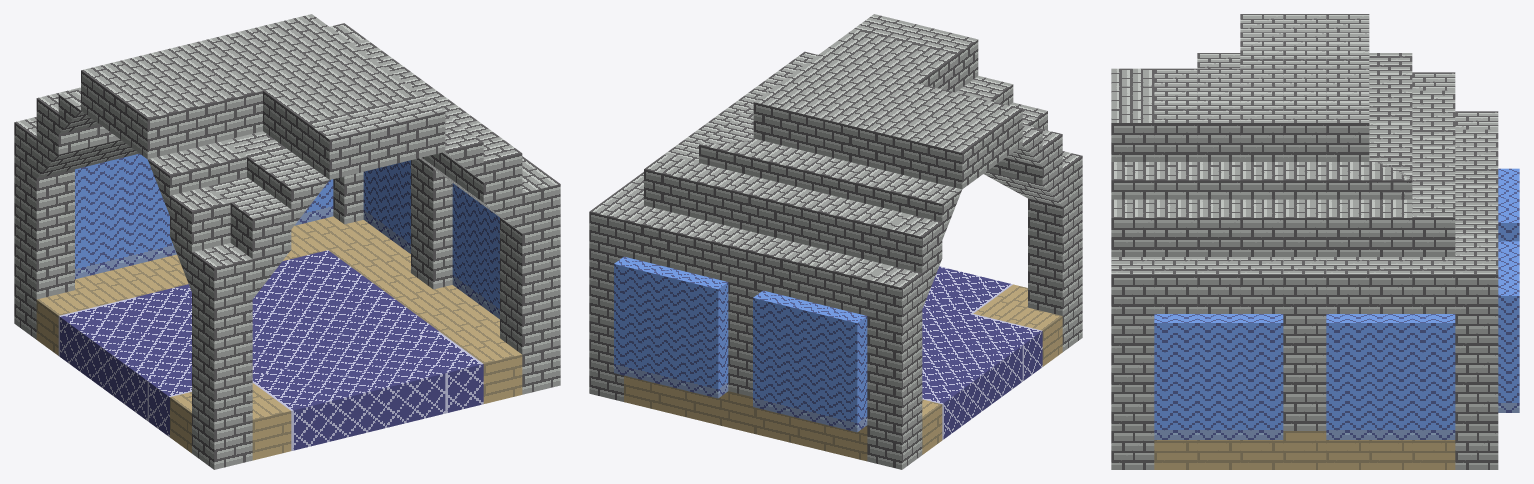
File: corridor 90 SO.fbx
3 views of the same model, side by side, from view 1: azimuth 30°, elevation 25°; view 2: azimuth 150°, elevation 25°; view 3: azimuth 270°, elevation 25° (orthographic). The views are drawn at different scales.
Visible parts, largest first — view 1: corridor 90 SO; view 2: corridor 90 SO; view 3: corridor 90 SO.
Boxes of the visible parts, x1,y1,x2,y2 form: corridor 90 SO: (14,14,560,469); corridor 90 SO: (589,14,1082,469); corridor 90 SO: (1111,14,1519,469).
Size of the model in its own units: 9.5 by 7.5 by 9.5.
1 material, 1 textured.
